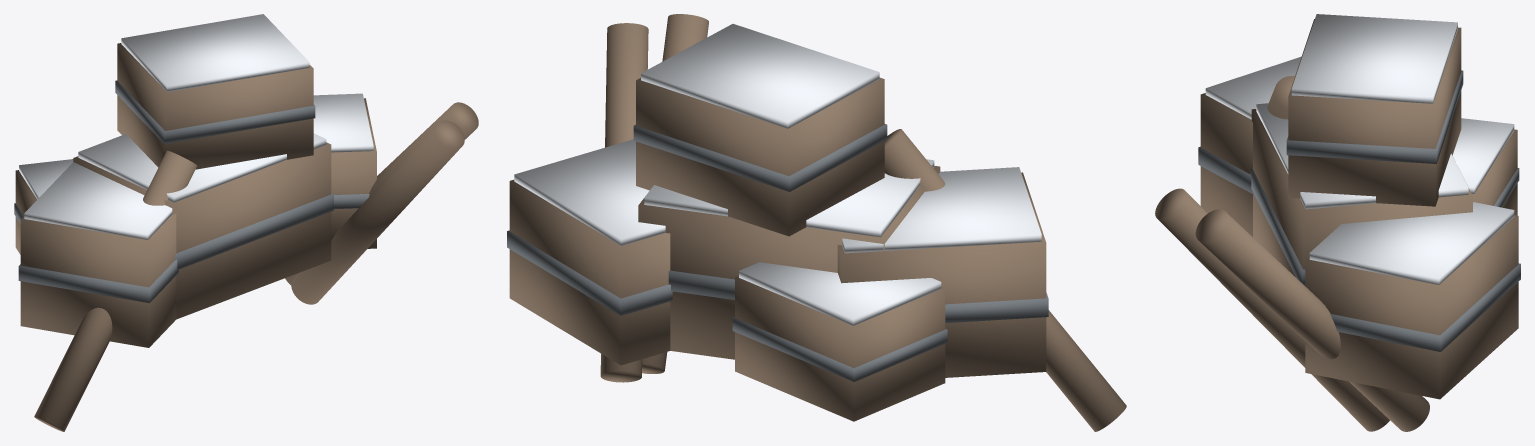
File: wood_crates.glb
3 views of the same model, side by side, from view 1: azimuth 30°, elevation 25°; view 2: azimuth 150°, elevation 25°; view 3: azimuth 270°, elevation 25° (orthographic). The views are drawn at different scales.
Visible parts, largest first — view 1: wood_crates_Asset; view 2: wood_crates_Asset; view 3: wood_crates_Asset.
Part boxes in pixels (bbox=[...]): wood_crates_Asset: bbox=[14, 14, 478, 431]; wood_crates_Asset: bbox=[507, 14, 1126, 431]; wood_crates_Asset: bbox=[1155, 14, 1520, 431].
Bounding box in the file's own units: 4.68 × 2.94 × 2.95.
